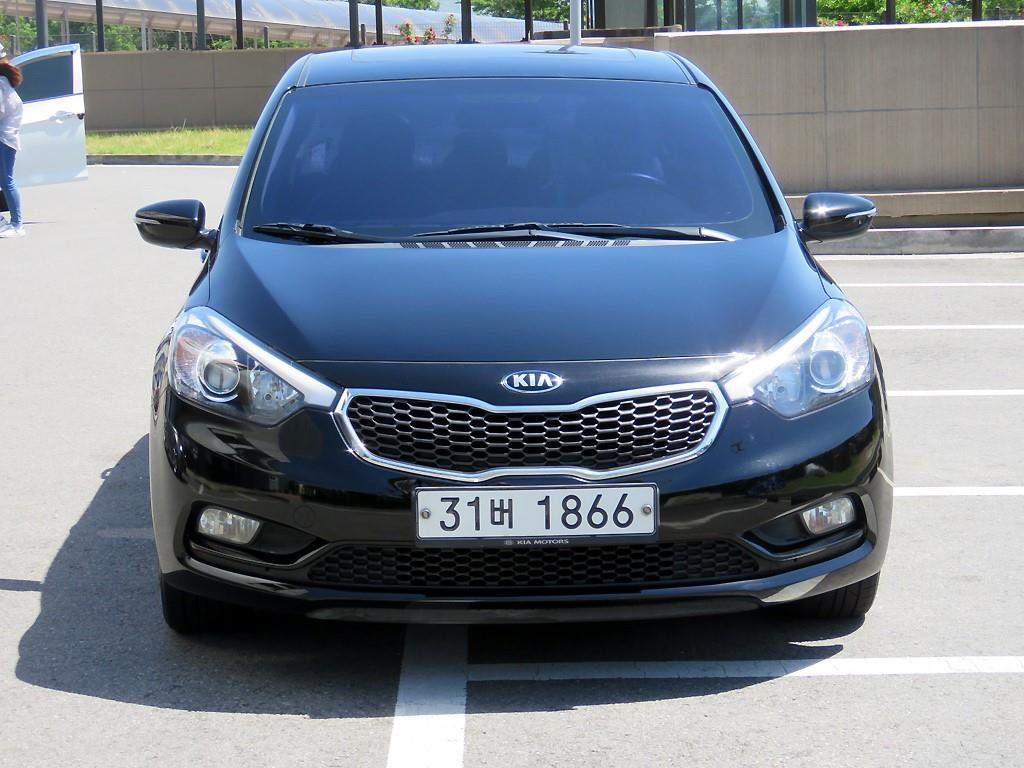plate: (416, 489, 655, 536)
